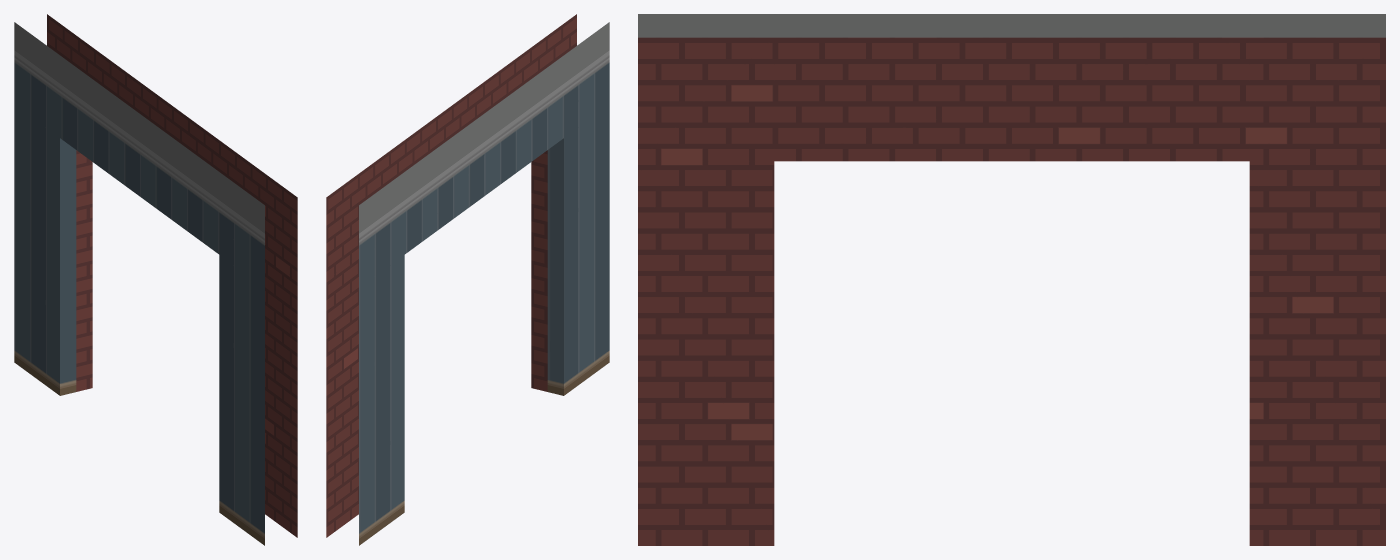
File: SM_wallDoor_02.glb
3 views of the same model, side by side, from view 1: azimuth 30°, elevation 25°; view 2: azimuth 150°, elevation 25°; view 3: azimuth 270°, elevation 25° (orthographic). The views are drawn at different scales.
Visible parts, largest first — view 1: SM_wallDoor_02; view 2: SM_wallDoor_02; view 3: SM_wallDoor_02.
Part boxes in pixels (x1=…): SM_wallDoor_02: x1=14, y1=14, x2=297, y2=545; SM_wallDoor_02: x1=326, y1=14, x2=609, y2=545; SM_wallDoor_02: x1=638, y1=14, x2=1385, y2=545.
Bounding box in the file's own units: 0.3 × 3 × 4.
Materials: 2 (2 with a texture image).
